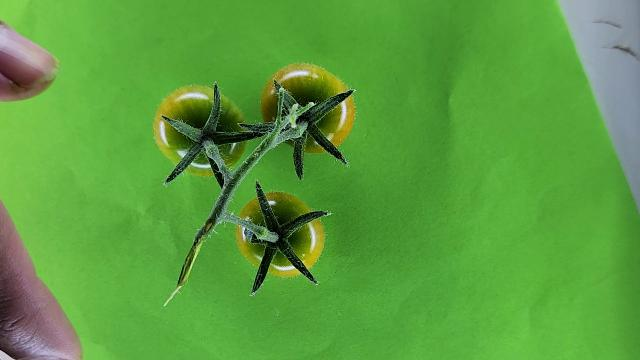Fully Grown: (153, 85, 250, 177), (261, 63, 355, 155), (236, 191, 324, 277)
